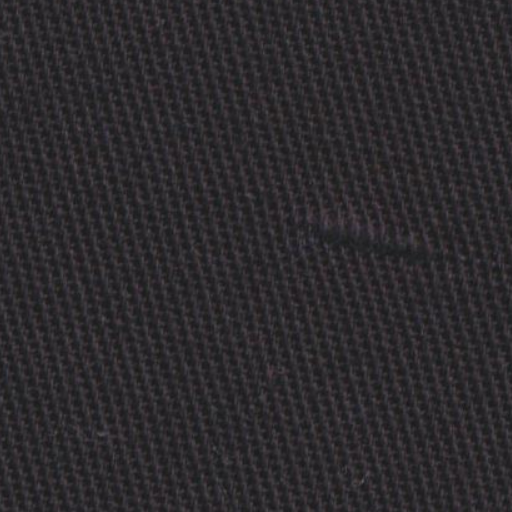DaiSha: (269, 182, 452, 264)
